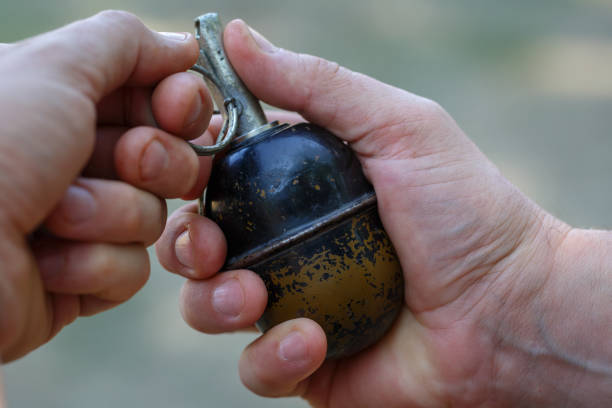e1: (164, 10, 410, 355)
